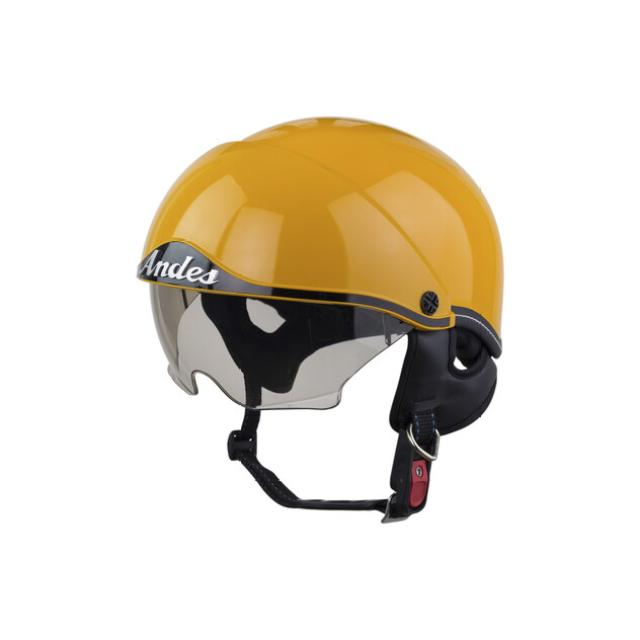Helmet: (134, 113, 508, 524)
